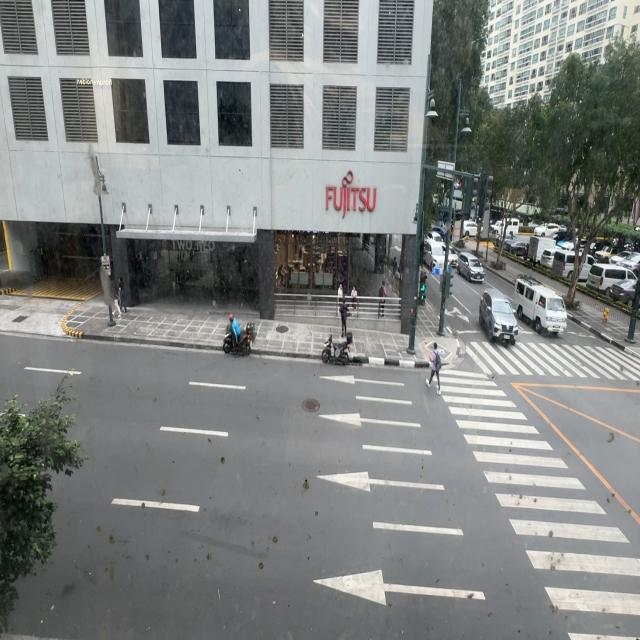crossing: (426, 343, 442, 395)
pedestrain: (339, 298, 348, 339), (113, 284, 123, 318), (118, 276, 127, 313), (378, 282, 386, 316), (351, 285, 358, 316), (337, 283, 344, 312), (392, 256, 398, 279), (382, 285, 387, 297)
